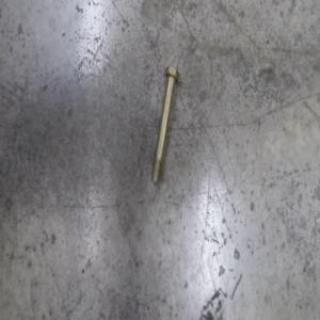Bolttrack_idkeyframe: (150, 63, 179, 184)
